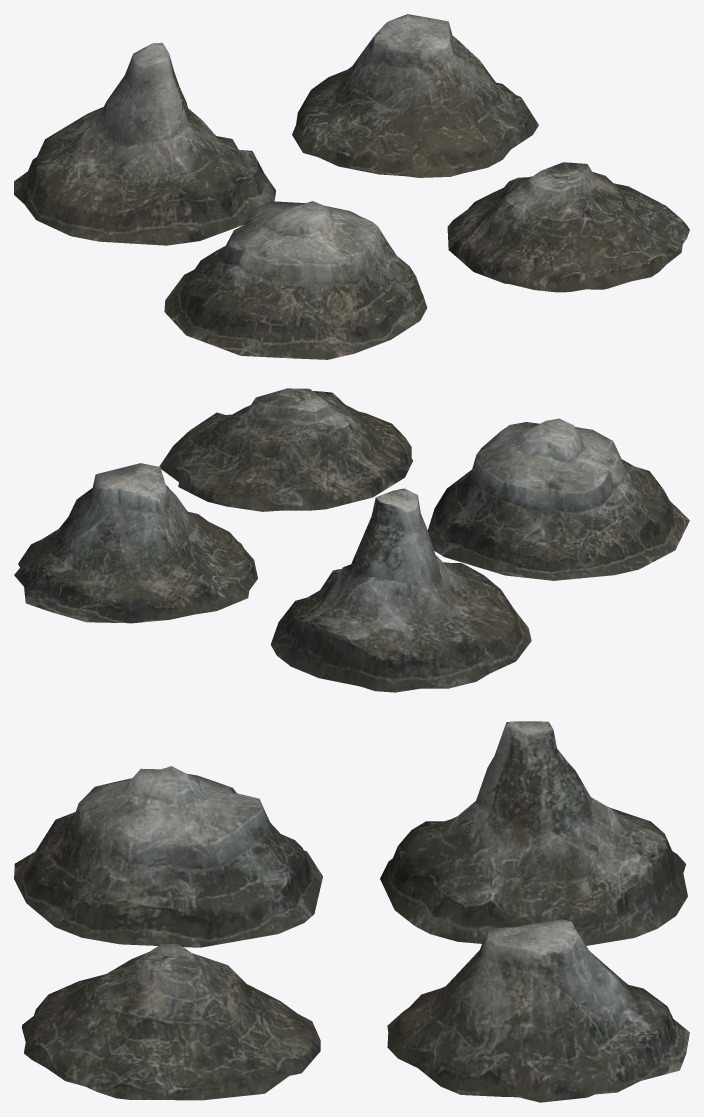
3 views of the same model, one above another, from view 1: azimuth 30°, elevation 25°; view 2: azimuth 150°, elevation 25°; view 3: azimuth 270°, elevation 25° (orthographic). The views are drawn at different scales.
Parts seen in each view (by area): view 1: mountain2, mountain1, mountain3, mountain4; view 2: mountain2, mountain1, mountain3, mountain4; view 3: mountain2, mountain1, mountain3, mountain4.
Part boxes in pixels (x1=…): mountain2: x1=14, y1=42, x2=275, y2=245; mountain1: x1=164, y1=201, x2=427, y2=359; mountain3: x1=292, y1=14, x2=538, y2=177; mountain4: x1=447, y1=162, x2=689, y2=292; mountain2: x1=270, y1=488, x2=531, y2=692; mountain1: x1=427, y1=418, x2=689, y2=580; mountain3: x1=14, y1=463, x2=257, y2=623; mountain4: x1=159, y1=388, x2=412, y2=511; mountain2: x1=380, y1=721, x2=687, y2=945; mountain1: x1=14, y1=766, x2=322, y2=947; mountain3: x1=387, y1=919, x2=689, y2=1102; mountain4: x1=21, y1=944, x2=320, y2=1100.
Size of the model in its own units: 18.95 by 5.1 by 18.93.
Materials: 1 (1 with a texture image).
